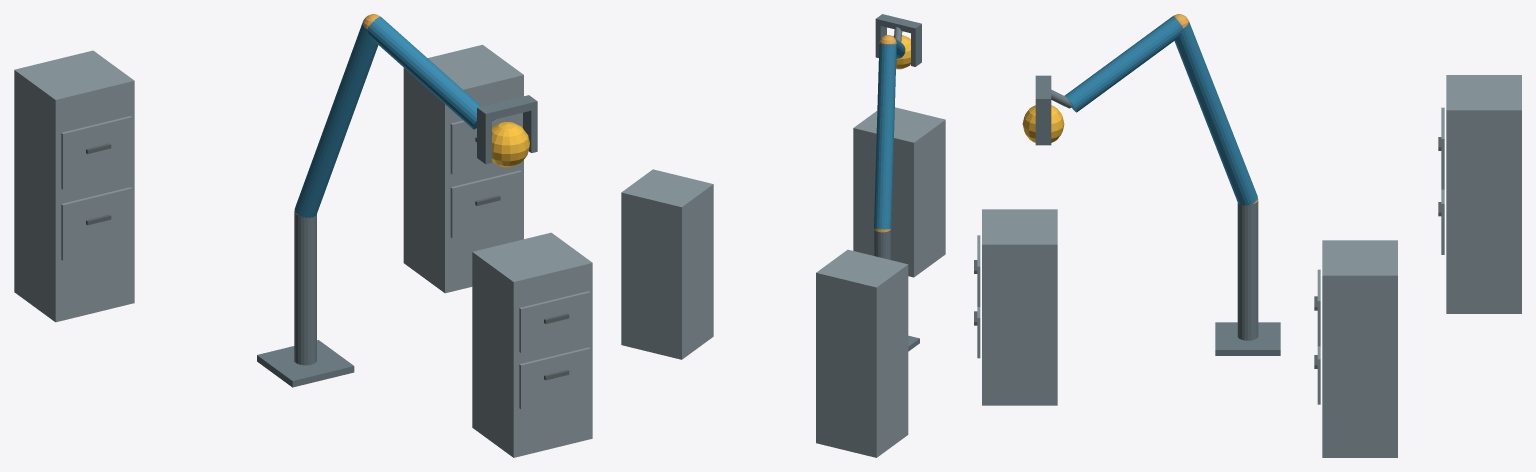
3 renders of one model, left to right at view 1: azimuth 30°, elevation 25°; view 2: azimuth 150°, elevation 25°; view 3: azimuth 270°, elevation 25°, orthographic. The views are drawn at different scales.
Parts seen in each view (by area): view 1: cabinet_3 body, cabinet_1 body, cabinet_2 body, moving link 1, cabinet_3 drawer front, cabinet_3 drawer front.001, cabinet_2 drawer front, fixed post, moving link 2, cabinet_1 drawer front, cabinet_1 drawer front.001, pedestal (+4 smaller); view 2: cabinet_3 body, cabinet_2 body, cabinet_1 body, moving link 1, gripper bridge, fixed post, gripper finger -1; view 3: cabinet_3 body, cabinet_2 body, cabinet_1 body, moving link 1, fixed post, moving link 2, pedestal, ball ball_1, gripper finger 1.
Part boxes in pixels (x1,y1,x2,y2): cabinet_3 body: (14,50,134,322); cabinet_1 body: (472,232,592,457); cabinet_2 body: (403,44,523,293); moving link 1: (294,22,378,217); cabinet_3 drawer front: (61,187,132,260); cabinet_3 drawer front.001: (61,116,132,189); cabinet_2 drawer front: (450,170,521,238); fixed post: (294,213,316,365); moving link 2: (367,16,481,129); cabinet_1 drawer front: (519,347,590,409); cabinet_1 drawer front.001: (519,291,590,352); pedestal: (257,340,354,387); cabinet_3 body: (816,249,908,457); cabinet_2 body: (621,169,713,359); cabinet_1 body: (853,107,945,277); moving link 1: (874,43,896,229); gripper bridge: (875,14,921,34); fixed post: (874,229,891,259); gripper finger -1: (911,30,921,66); cabinet_3 body: (1446,75,1521,313); cabinet_2 body: (1322,240,1397,457); cabinet_1 body: (982,209,1057,405); moving link 1: (1174,21,1257,205); fixed post: (1237,201,1258,340); moving link 2: (1064,16,1183,112); pedestal: (1215,322,1280,355); ball ball_1: (1022,105,1064,142); gripper finger 1: (1035,106,1051,145).
Bounding box in the file's own units: 1.62 × 1.44 × 2.1.
